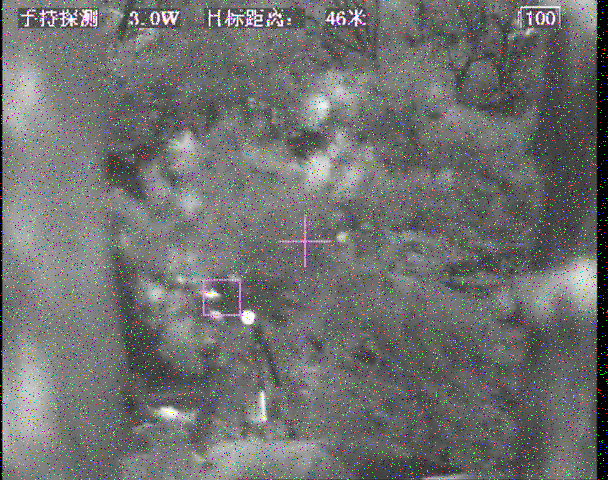my: (240, 309, 255, 326)
